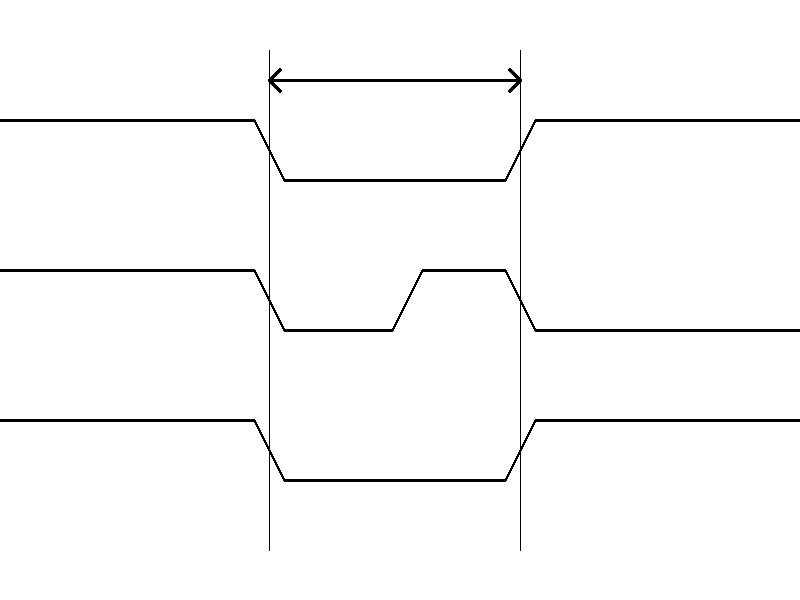double_arrow: (269, 65, 520, 95)
